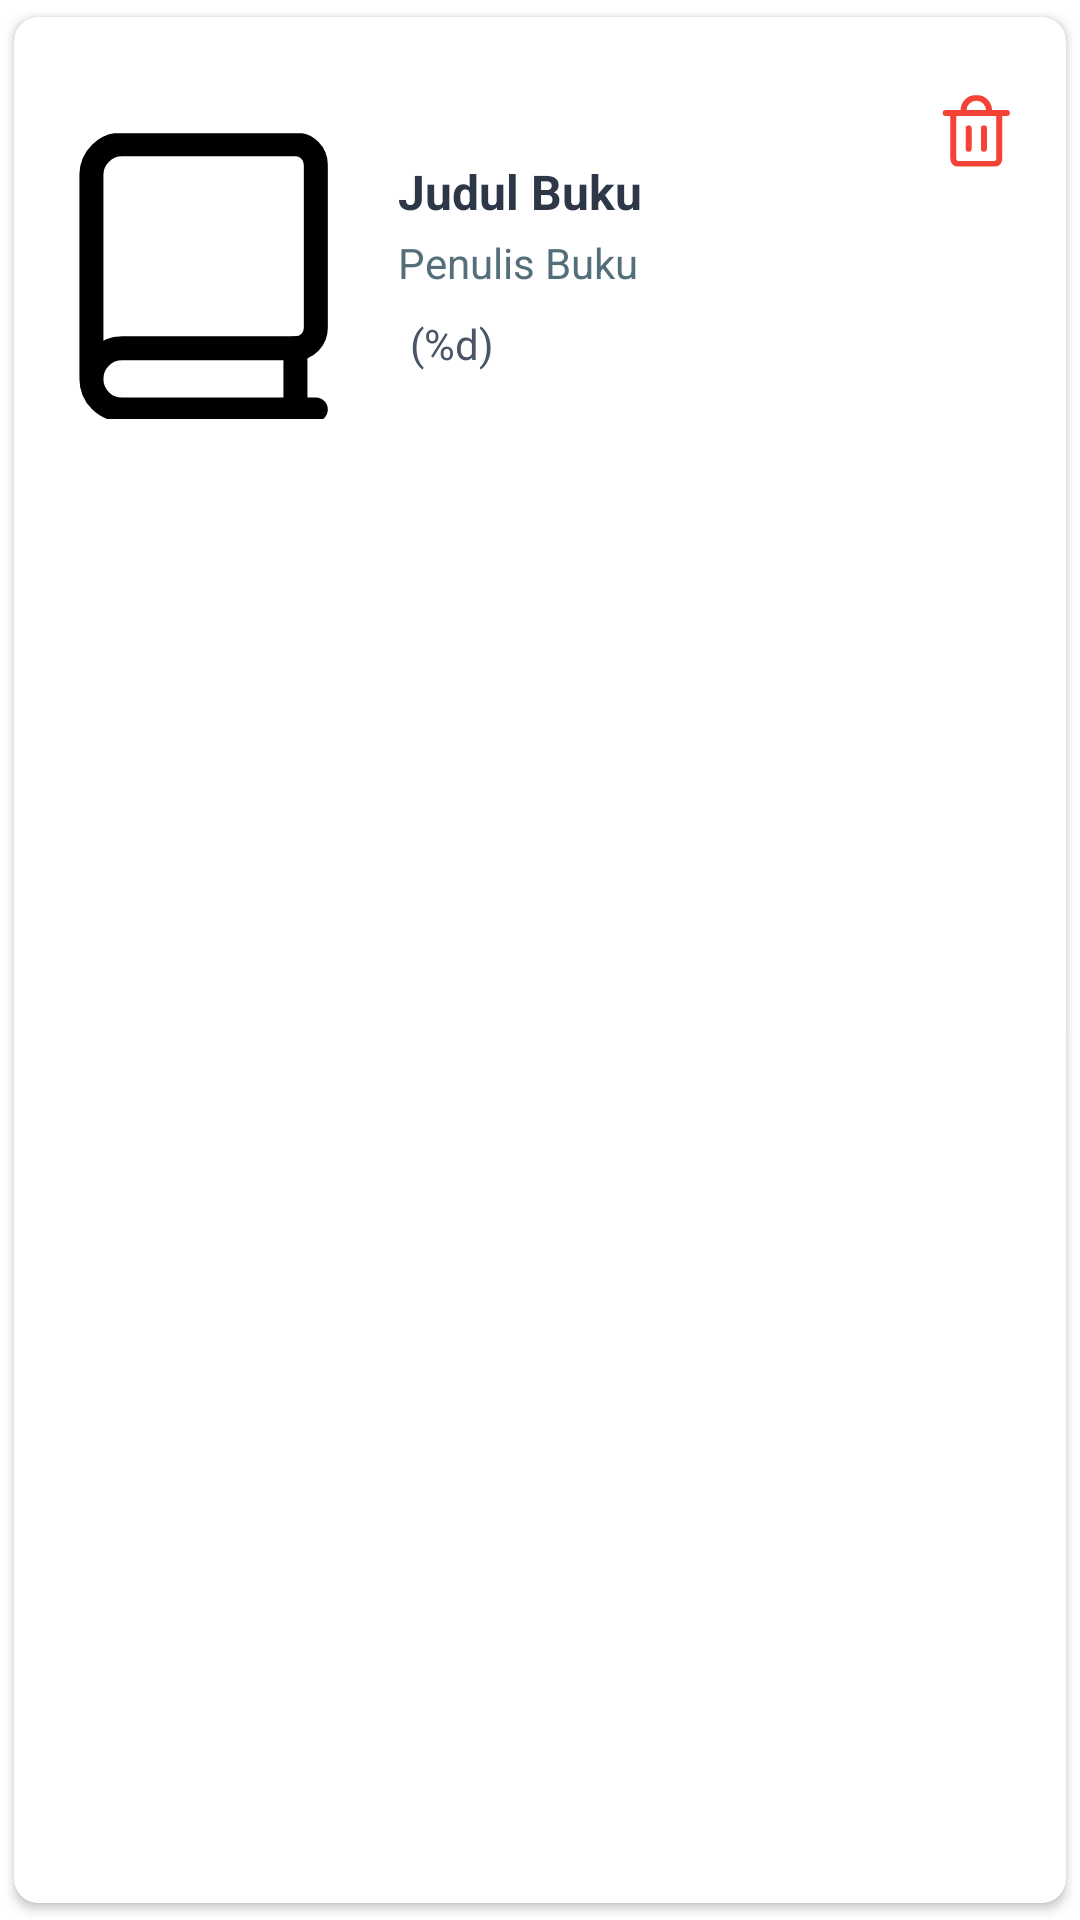

Locate icon controls on the screen. Image size 1080px×1920px, boxes as (x1, y1, x2, y2).
Hapus Buku Koleksi: (942, 95, 1010, 167)
